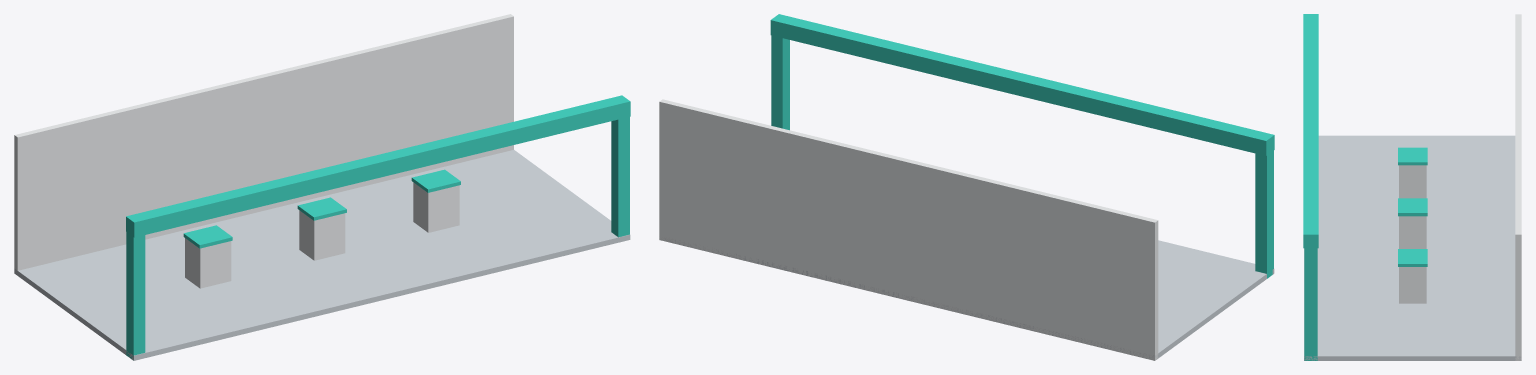
3 renders of one model, left to right at view 1: azimuth 30°, elevation 25°; view 2: azimuth 150°, elevation 25°; view 3: azimuth 270°, elevation 25°, orthographic. The views are drawn at different scales.
Visible parts, largest first — view 1: Exhibition Booth Concept; view 2: Exhibition Booth Concept; view 3: Exhibition Booth Concept.
Boxes of the visible parts, box(x1,y1,x2,y2) form: Exhibition Booth Concept: box(14, 14, 630, 360); Exhibition Booth Concept: box(659, 14, 1274, 360); Exhibition Booth Concept: box(1303, 14, 1521, 360).
Bounding box in the file's own units: 12 × 3.2 × 5.02.
